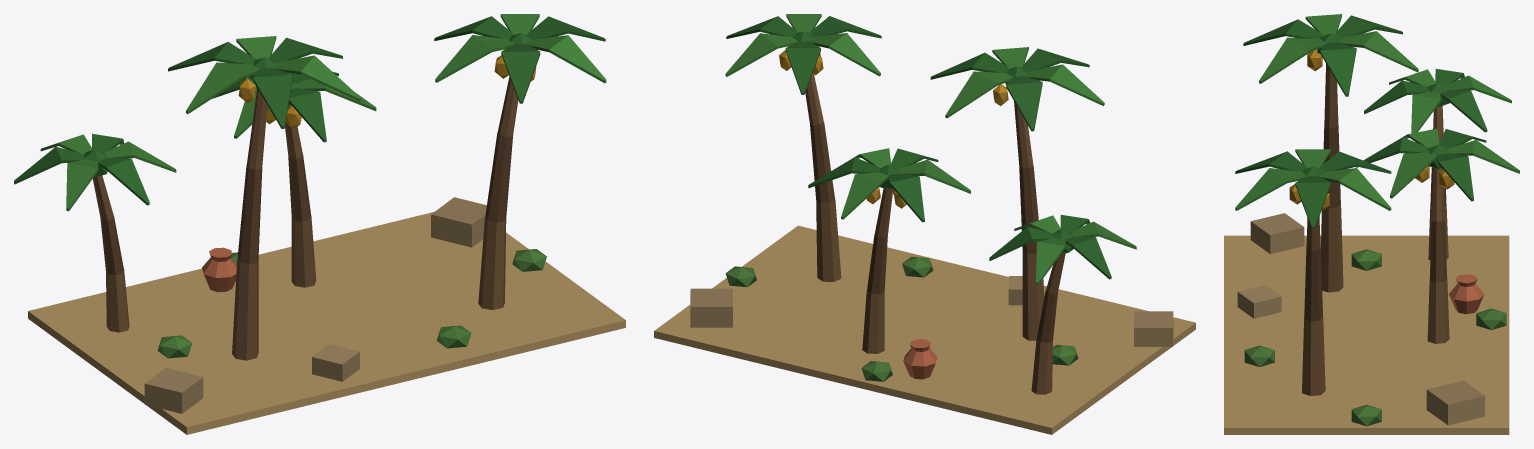
Rendered from Decor_PharaohPyramid_Palms.fbx.
3 views of the same model, side by side, from view 1: azimuth 30°, elevation 25°; view 2: azimuth 150°, elevation 25°; view 3: azimuth 270°, elevation 25° (orthographic). The views are drawn at different scales.
Visible parts, largest first — view 1: Palms_Body; view 2: Palms_Body; view 3: Palms_Body.
Boxes of the visible parts, x1,y1,x2,y2 form: Palms_Body: (14,14,625,434); Palms_Body: (654,14,1195,434); Palms_Body: (1224,14,1519,434).
Size of the model in its own units: 28.8 by 16.33 by 16.2.
